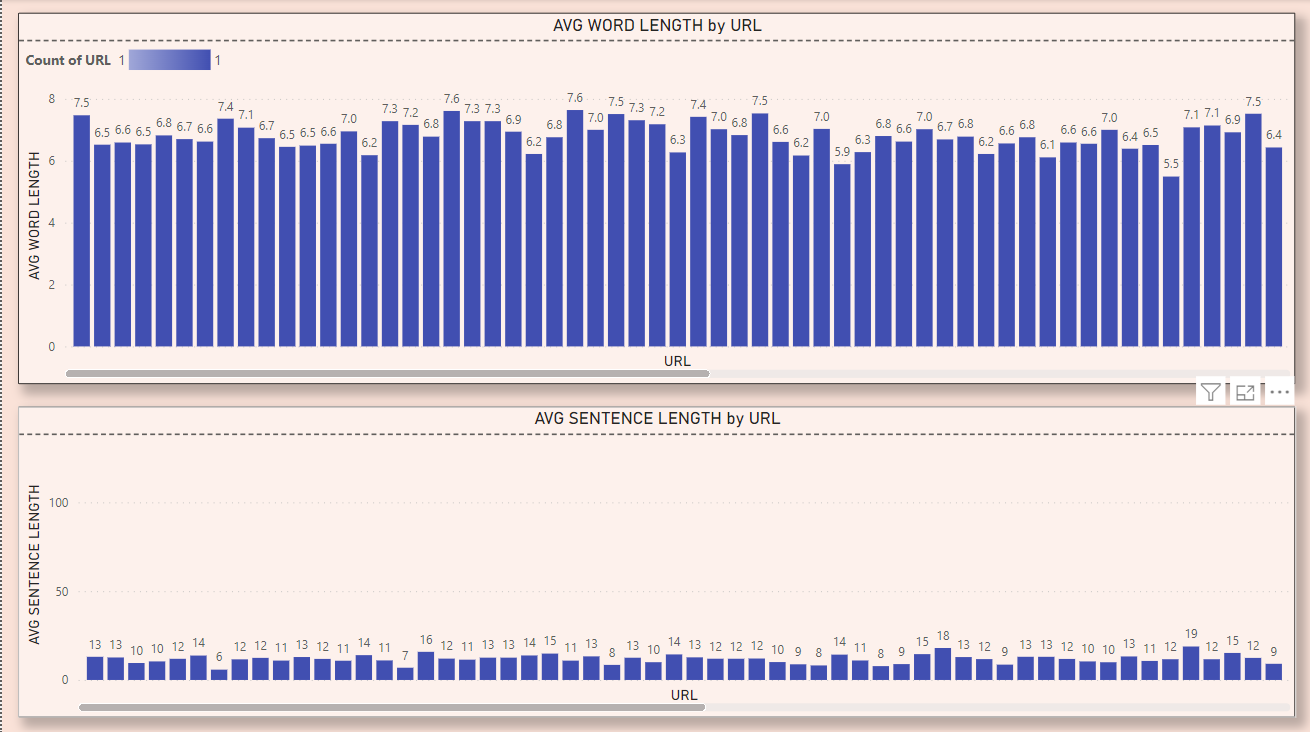

The dashboard page shown, as its layout file describes it:
{"tool":"powerbi","page":{"name":"Average word and Sentence length","canvas":[1280,720],"ordinal":3},"visuals":[{"type":"clusteredColumnChart","fields":{"Category":["Output_file.URL"],"Y":["Sum(Output_file.AVG WORD LENGTH)"]},"box":[15.8,13.2,1248.9,363],"z":0},{"type":"clusteredColumnChart","fields":{"Category":["Output_file.URL"],"Y":["Sum(Output_file.AVG SENTENCE LENGTH)"]},"box":[15.8,398.7,1248.9,303.6],"z":1}]}

Visuals, with their boxes in screenshot pixels (x1, y1, x2, y2), scaled from the page's 1280x720 canvas onto the 1310x732 screenshot:
clusteredColumnChart - Output_file.URL x Sum(Output_file.AVG WORD LENGTH): box(16, 13, 1294, 382)
clusteredColumnChart - Output_file.URL x Sum(Output_file.AVG SENTENCE LENGTH): box(16, 405, 1294, 714)
